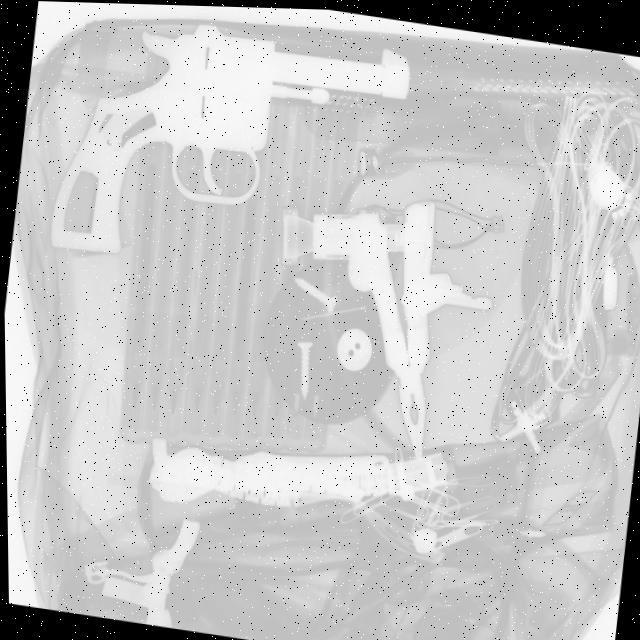pistol: (40, 1, 416, 299)
